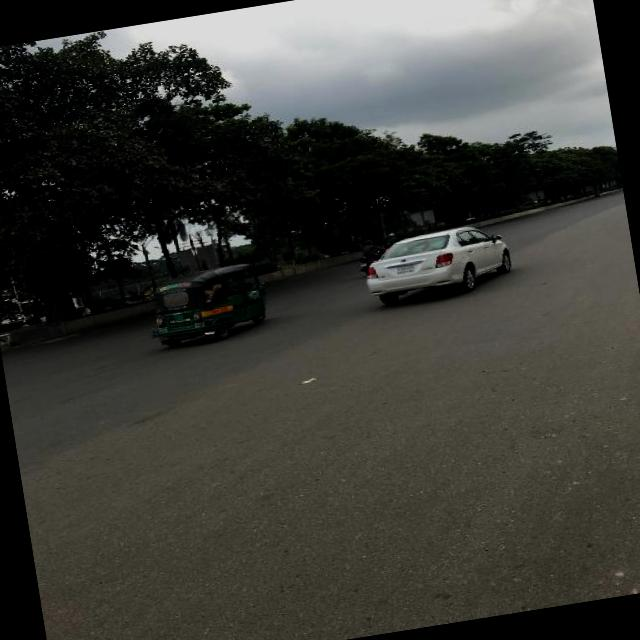car: (362, 216, 520, 306)
motorcycle: (143, 258, 273, 349), (356, 237, 388, 271), (384, 232, 400, 248)
